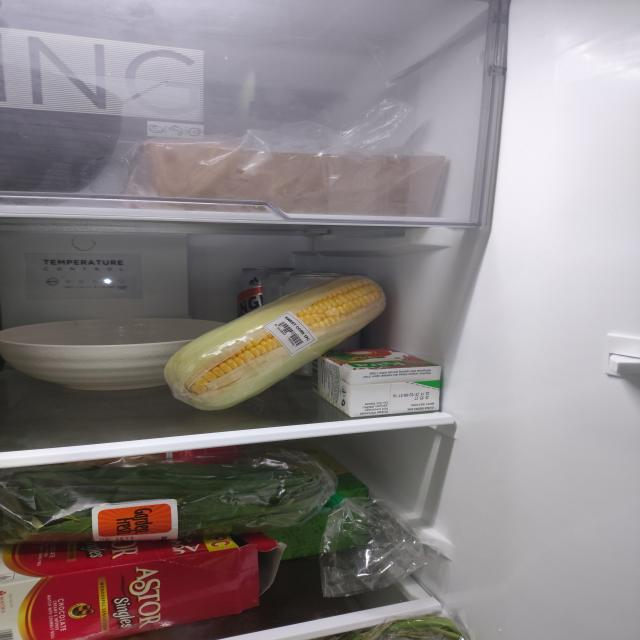coconut_milk: (311, 346, 442, 418)
corn: (164, 274, 386, 412)
leafy_greens: (0, 456, 336, 546)
